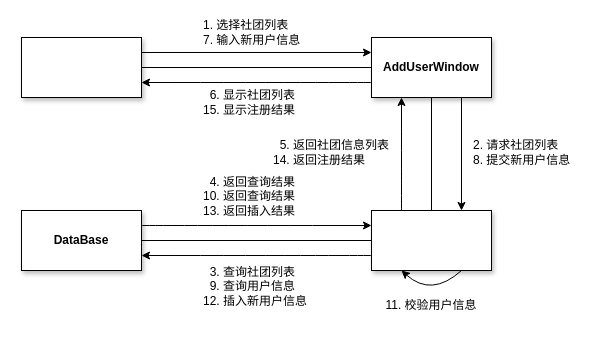
This 599x344 diagram has some shape labels left out. The centre of each missing label's shape, as x and y in pixels:
Administrator: the point at 82,68
Controller: the point at 432,242
